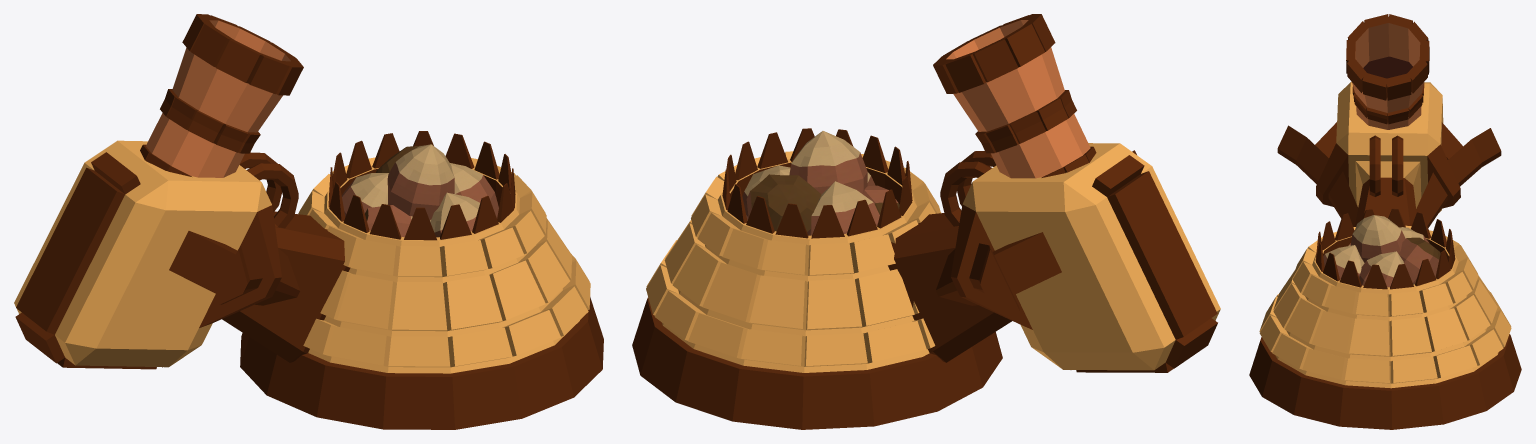
Rendered from fındıkatarlevel3.fbx.
3 views of the same model, side by side, from view 1: azimuth 30°, elevation 25°; view 2: azimuth 150°, elevation 25°; view 3: azimuth 270°, elevation 25° (orthographic). The views are drawn at different scales.
Parts seen in each view (by area): view 1: parentli kurdanatar.021, Cube.136; view 2: parentli kurdanatar.021, Cube.136; view 3: parentli kurdanatar.021, Cube.136.
Part boxes in pixels (left/top/right/bottom): parentli kurdanatar.021: left=240, top=131, right=603, bottom=429; Cube.136: left=14, top=14, right=350, bottom=369; parentli kurdanatar.021: left=632, top=128, right=1002, bottom=429; Cube.136: left=888, top=14, right=1220, bottom=372; parentli kurdanatar.021: left=1249, top=208, right=1521, bottom=429; Cube.136: left=1277, top=14, right=1501, bottom=227.
Size of the model in its own units: 415 by 276 by 243.
4 materials, 4 textured.
